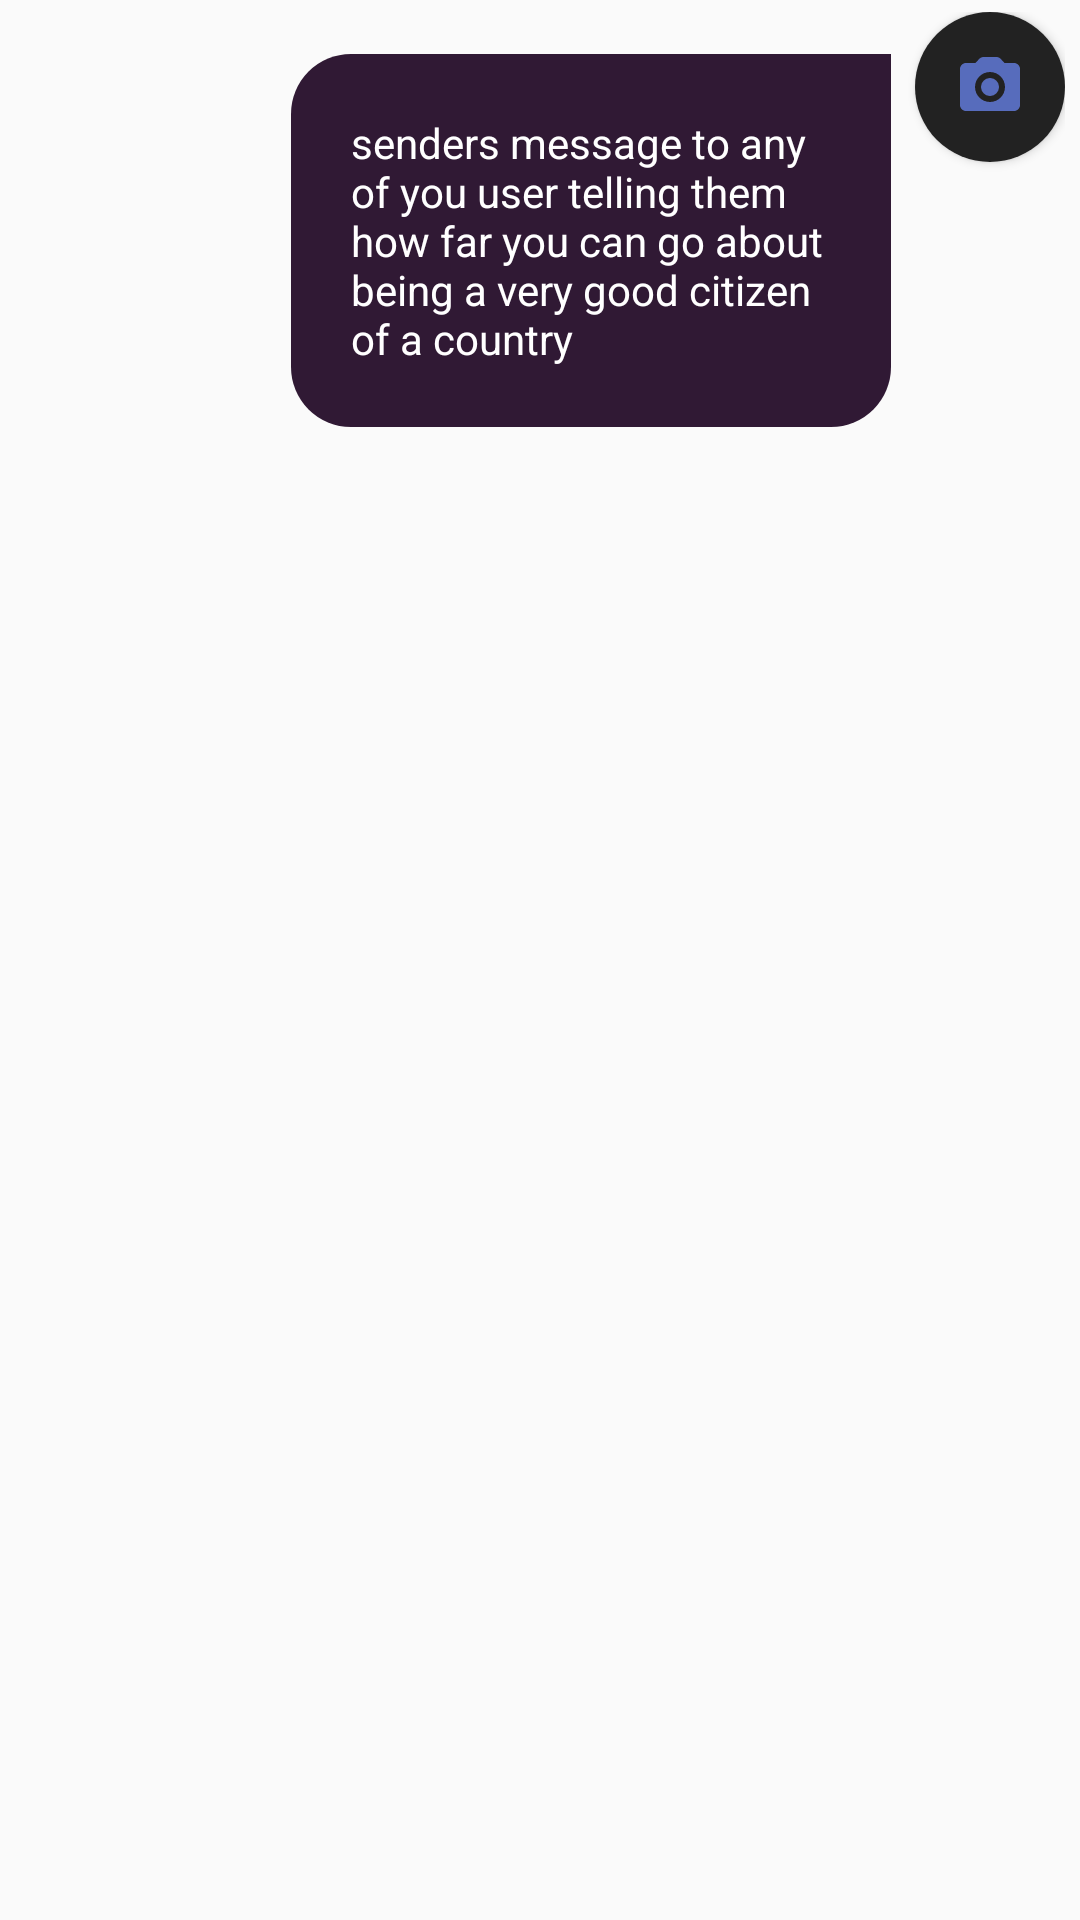

Icon bounding boxes for this 1080 x 1920 phone screenshot, format [x1, y1, x2, y2]:
camera: [915, 12, 1065, 162]
